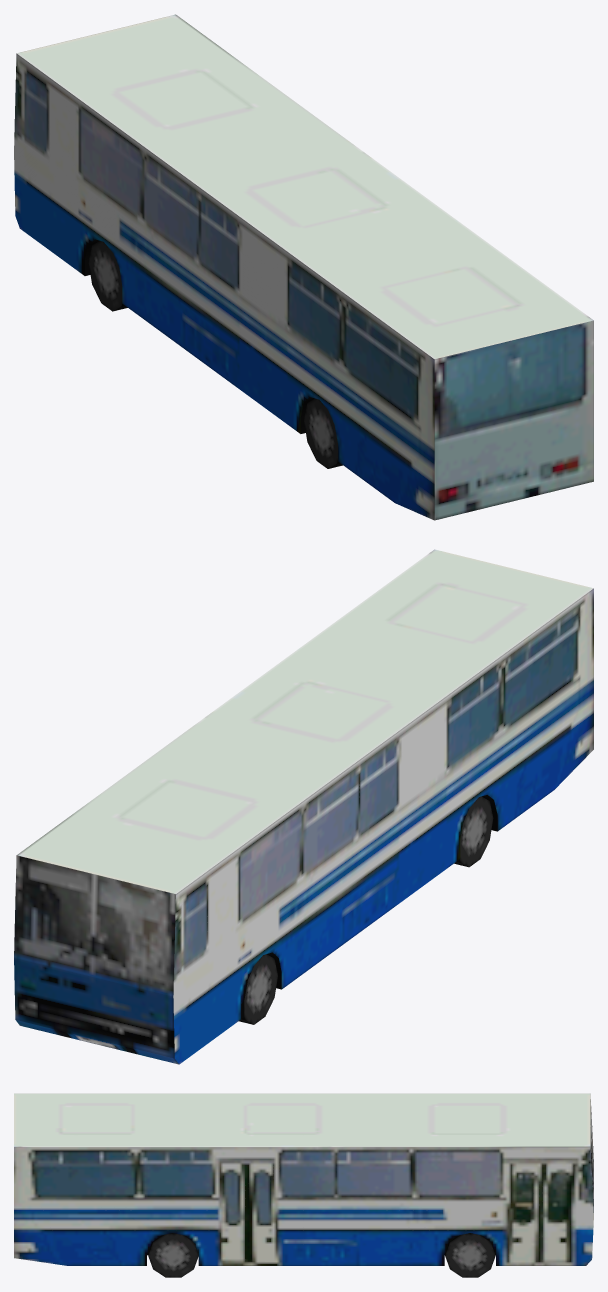
Rendered from rover.glb.
The picture shows the model from 3 angles, top to bottom: view 1: azimuth 30°, elevation 25°; view 2: azimuth 150°, elevation 25°; view 3: azimuth 270°, elevation 25°; orthographic projection. The views are drawn at different scales.
Parts seen in each view (by area): view 1: bus_body_mesh, bus_whell_forward_left_mesh, bus_whell_rear_left_mesh; view 2: bus_body_mesh, bus_whell_forward_left_mesh, bus_whell_rear_left_mesh; view 3: bus_body_mesh, bus_whell_forward_right_mesh, bus_whell_rear_right_mesh.
Part boxes in pixels (x1,y1,x2,y2): bus_body_mesh: (14,14,593,520); bus_whell_forward_left_mesh: (88,241,127,311); bus_whell_rear_left_mesh: (304,398,342,468); bus_body_mesh: (14,549,593,1064); bus_whell_forward_left_mesh: (239,954,277,1024); bus_whell_rear_left_mesh: (454,796,493,867); bus_body_mesh: (14,1093,593,1265); bus_whell_forward_right_mesh: (445,1233,495,1277); bus_whell_rear_right_mesh: (148,1233,198,1277).
Bounding box in the file's own units: 2.62 × 3 × 11.96.
Materials: 1 (1 with a texture image).
